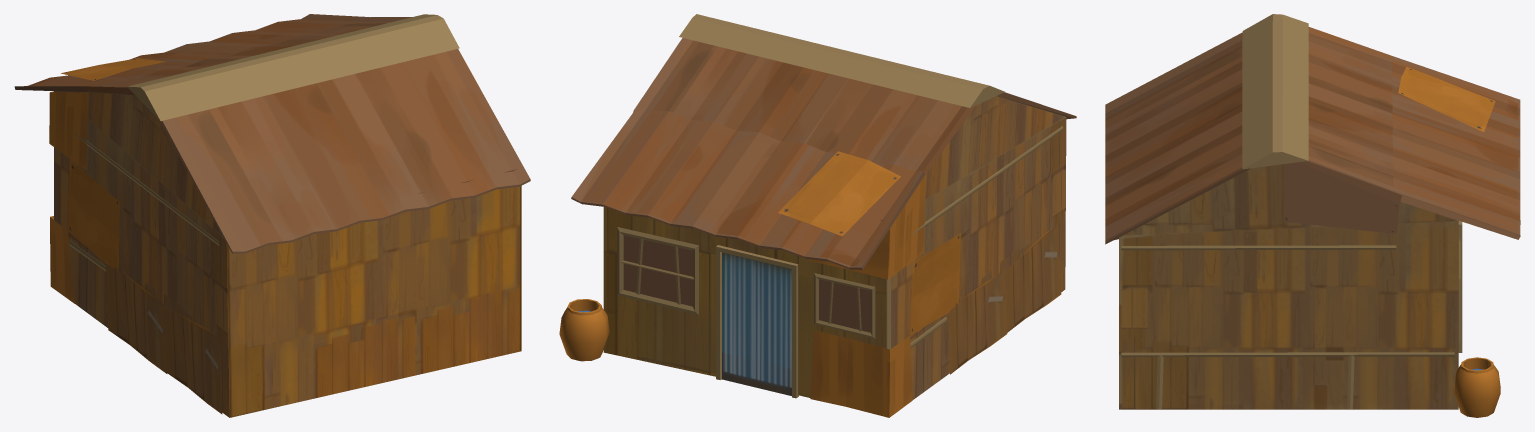
File: SM_HOUSE2_fix.fbx
3 views of the same model, side by side, from view 1: azimuth 30°, elevation 25°; view 2: azimuth 150°, elevation 25°; view 3: azimuth 270°, elevation 25° (orthographic). The views are drawn at different scales.
Visible parts, largest first — view 1: SM_House2; view 2: SM_House2; view 3: SM_House2.
Part boxes in pixels (<box>): SM_House2: <box>14,14,530,417</box>; SM_House2: <box>559,14,1076,417</box>; SM_House2: <box>1105,14,1520,417</box>.
Size of the model in its own units: 429 by 341 by 496.
